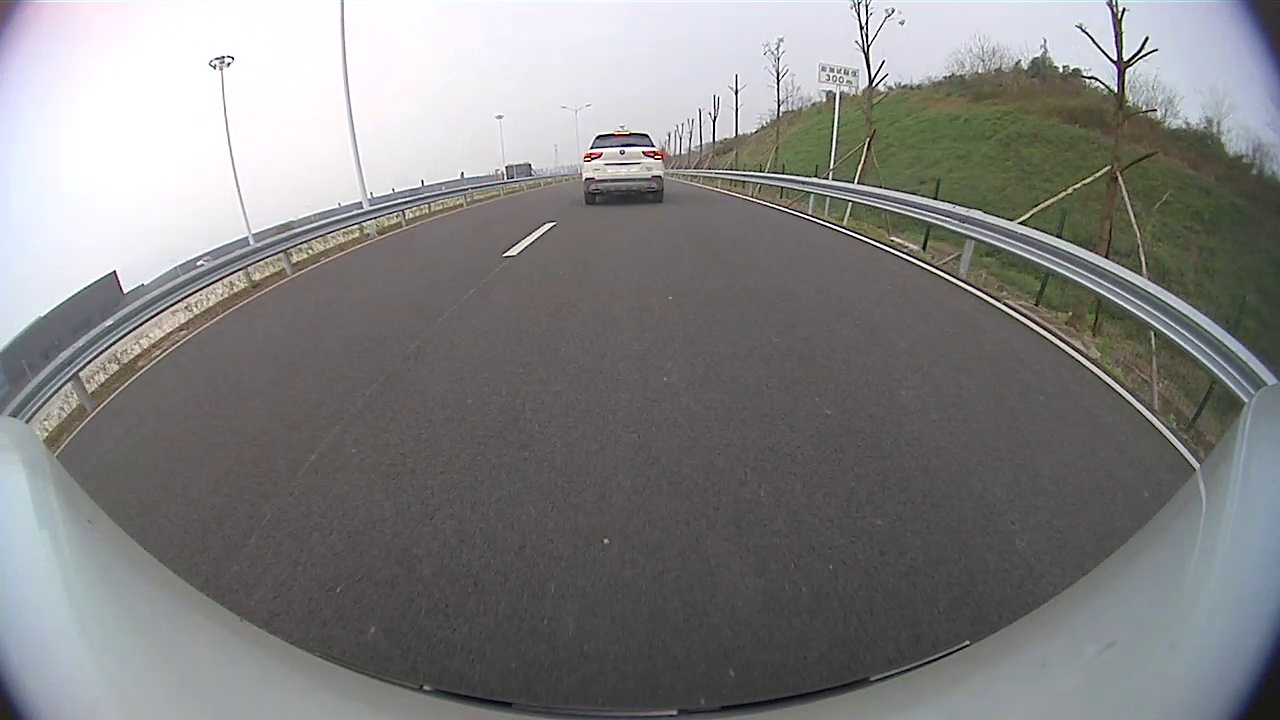car: (580, 128, 668, 208)
